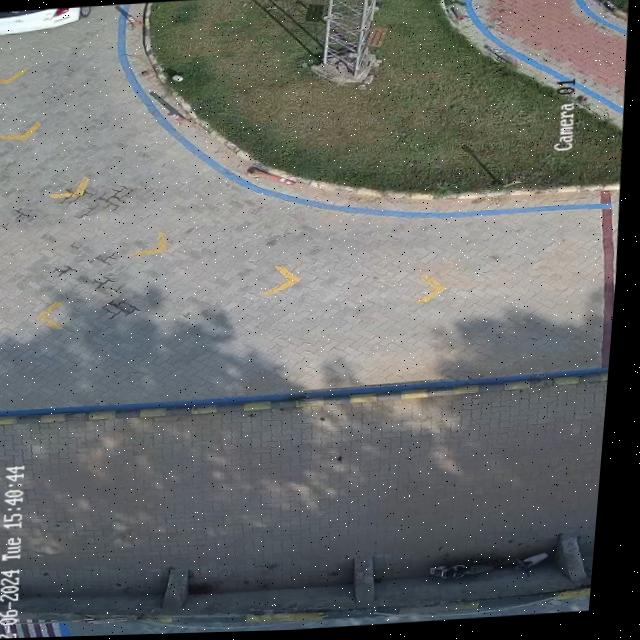car: (0, 6, 90, 31)
